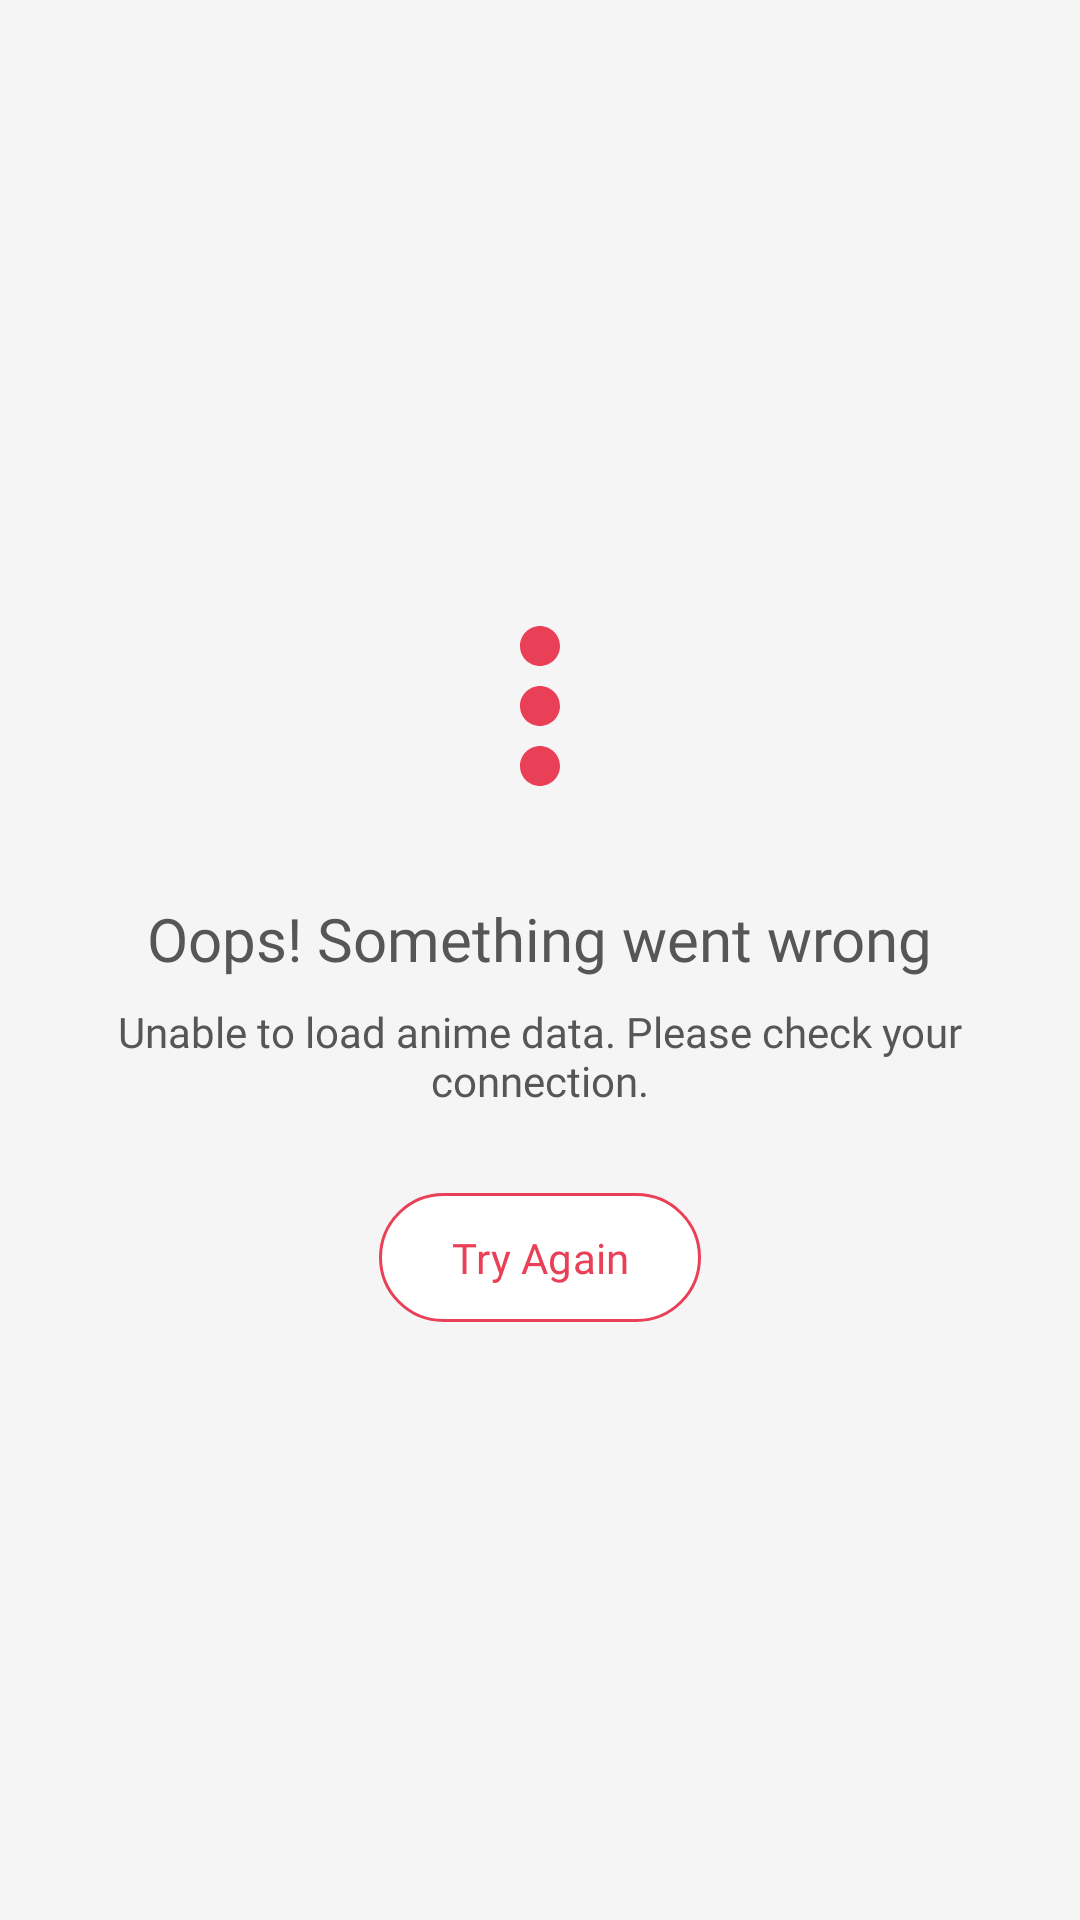

Icon bounding boxes for this 1080 x 1920 phone screenshot, format (x1, y1, x2, y2):
more vert: (520, 626, 560, 786)
